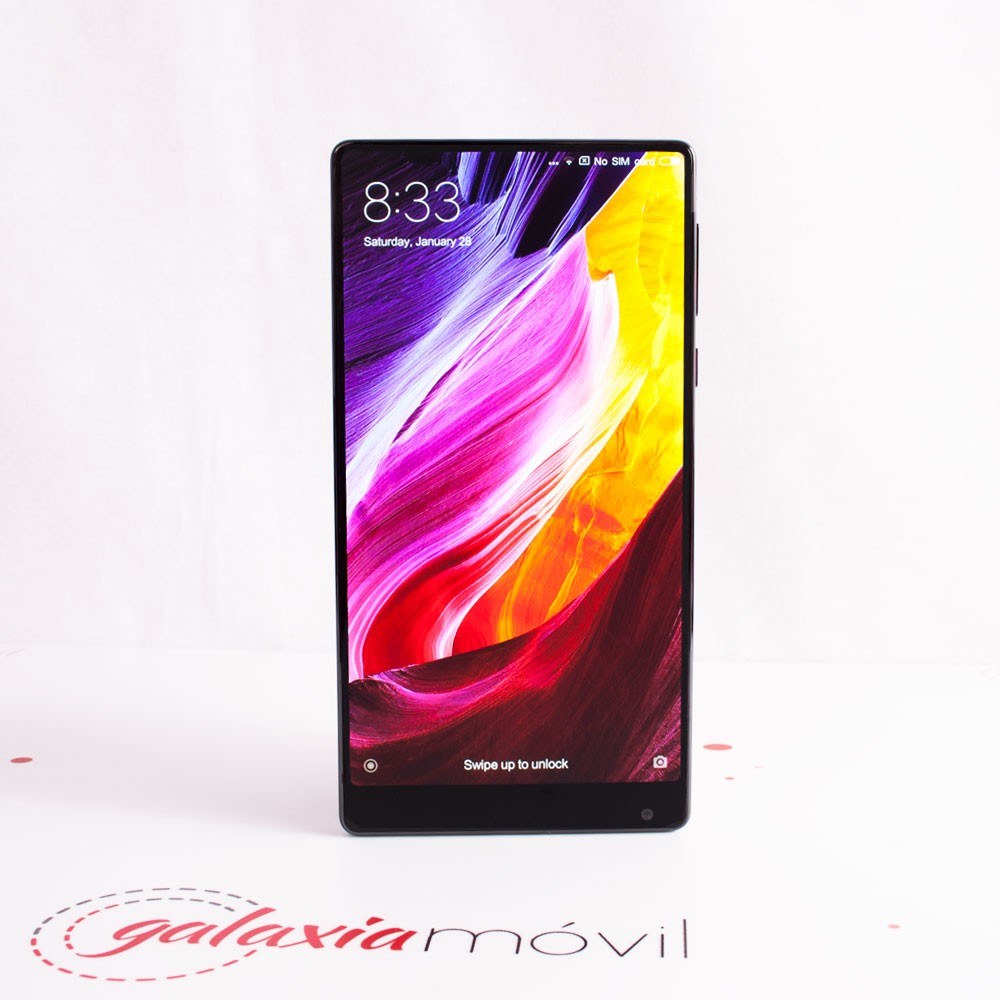smartphone: (329, 137, 700, 837)
